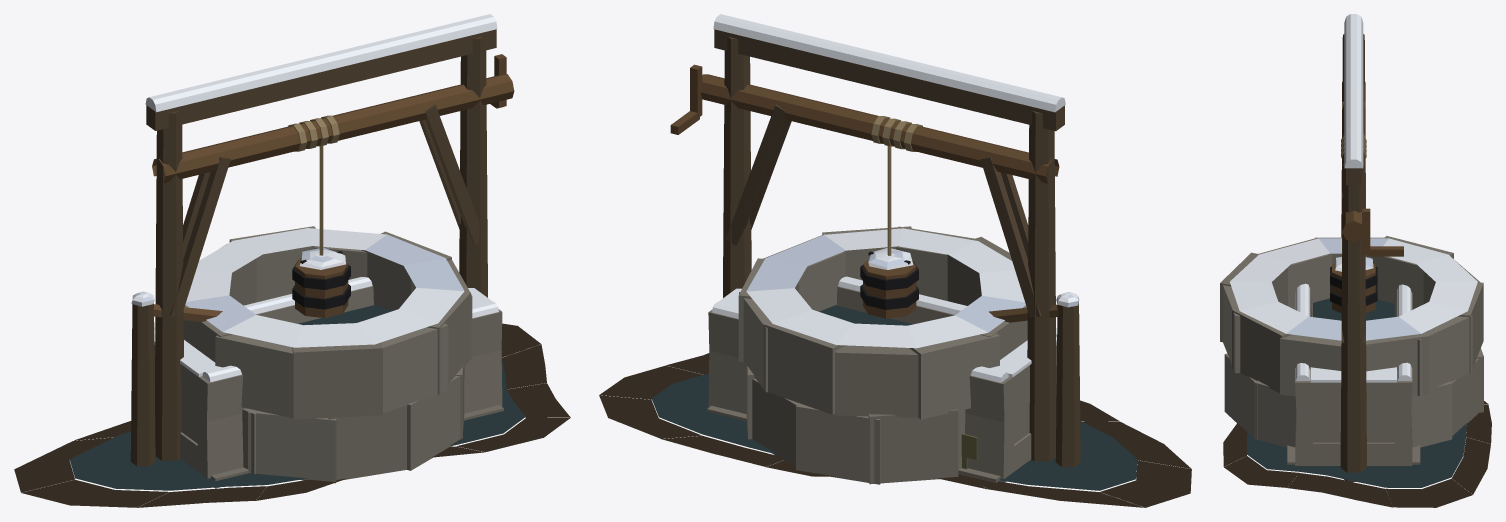
Rendered from fuellung_wasserstelle.glb.
3 renders of one model, left to right at view 1: azimuth 30°, elevation 25°; view 2: azimuth 150°, elevation 25°; view 3: azimuth 270°, elevation 25°, orthographic. The views are drawn at different scales.
Parts seen in each view (by area): view 1: Ziehbrunnen, Ziehbrunnen_Winter, PfuetzeGross, WassertrogStein, WassertrogStein_Winter; view 2: Ziehbrunnen, Ziehbrunnen_Winter, PfuetzeGross, WassertrogStein, WassertrogStein_Winter; view 3: Ziehbrunnen, Ziehbrunnen_Winter, PfuetzeGross, WassertrogStein, WassertrogStein_Winter.
Boxes of the visible parts, left/top/right/bottom form: Ziehbrunnen: left=146, top=29, right=514, bottom=483; Ziehbrunnen_Winter: left=145, top=14, right=497, bottom=347; PfuetzeGross: left=14, top=323, right=570, bottom=507; WassertrogStein: left=130, top=286, right=503, bottom=488; WassertrogStein_Winter: left=131, top=277, right=498, bottom=382; Ziehbrunnen: left=670, top=29, right=1064, bottom=484; Ziehbrunnen_Winter: left=713, top=14, right=1065, bottom=348; PfuetzeGross: left=599, top=353, right=1191, bottom=507; WassertrogStein: left=707, top=286, right=1080, bottom=485; WassertrogStein_Winter: left=712, top=276, right=1079, bottom=382; Ziehbrunnen: left=1220, top=34, right=1483, bottom=481; Ziehbrunnen_Winter: left=1230, top=14, right=1477, bottom=340; PfuetzeGross: left=1223, top=401, right=1491, bottom=507; WassertrogStein: left=1287, top=288, right=1420, bottom=465; WassertrogStein_Winter: left=1295, top=283, right=1411, bottom=382.
Size of the model in its own units: 3.51 by 2.29 by 1.74.
